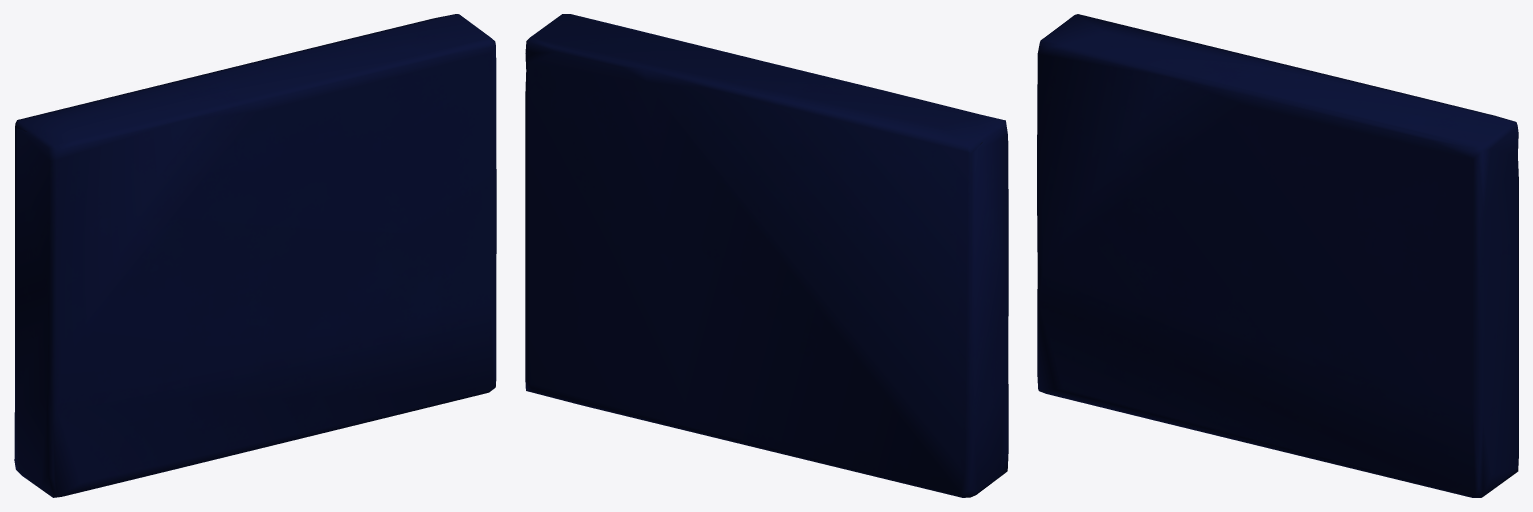
Rendered from navy-blue-wall.glb.
3 renders of one model, left to right at view 1: azimuth 30°, elevation 25°; view 2: azimuth 150°, elevation 25°; view 3: azimuth 330°, elevation 25°, orthographic.
Parts seen in each view (by area): view 1: geometry_0.001; view 2: geometry_0.001; view 3: geometry_0.001.
Boxes of the visible parts, x1,y1,x2,y2 form: geometry_0.001: [14, 14, 496, 497]; geometry_0.001: [525, 14, 1008, 497]; geometry_0.001: [1037, 14, 1518, 497].
Bounding box in the file's own units: 1 × 0.7552 × 0.1567.
Materials: 1 (1 with a texture image).
